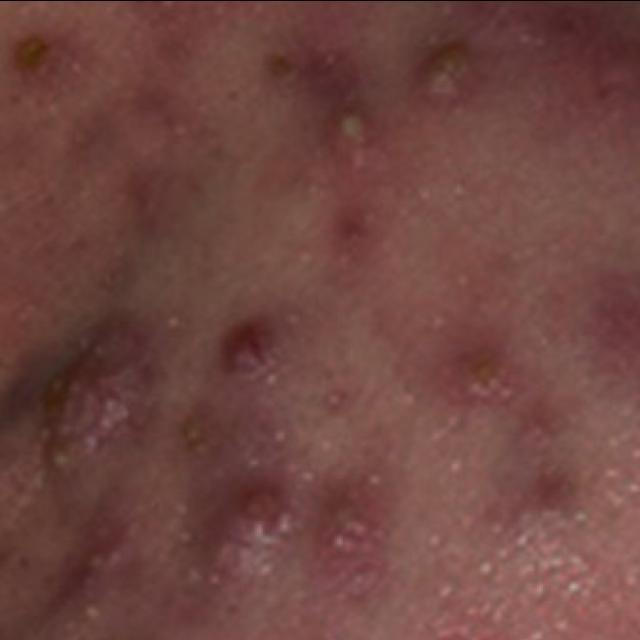acne: (0, 295, 299, 640), (265, 0, 640, 265), (404, 272, 640, 584), (0, 0, 257, 280), (278, 452, 402, 640)
